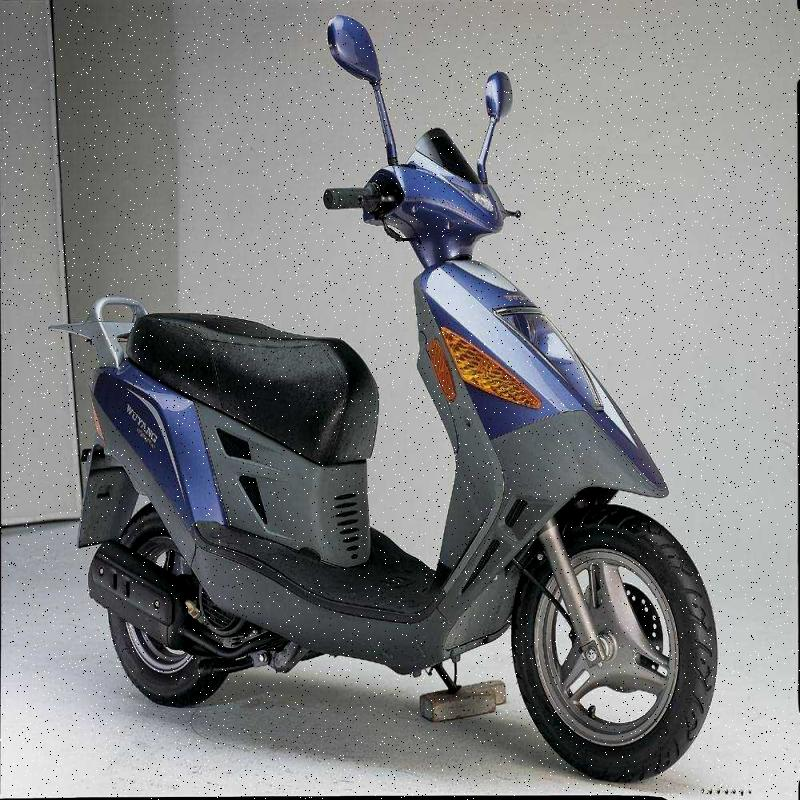bike: (53, 41, 725, 784)
